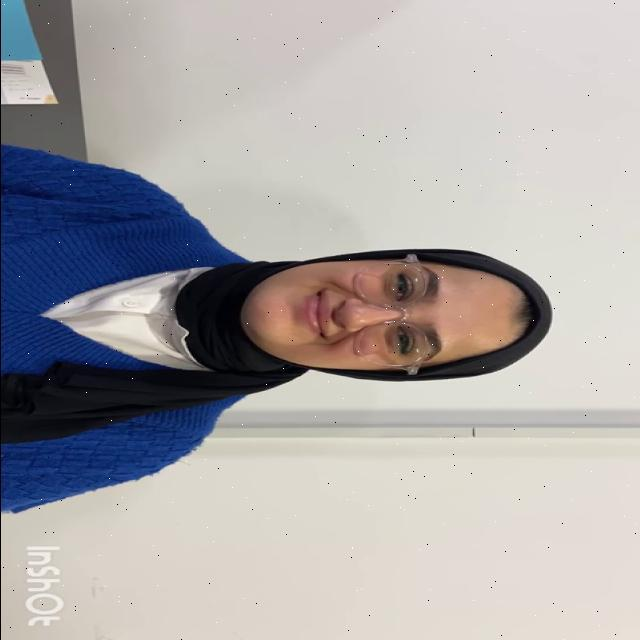happy: (245, 261, 511, 371)
